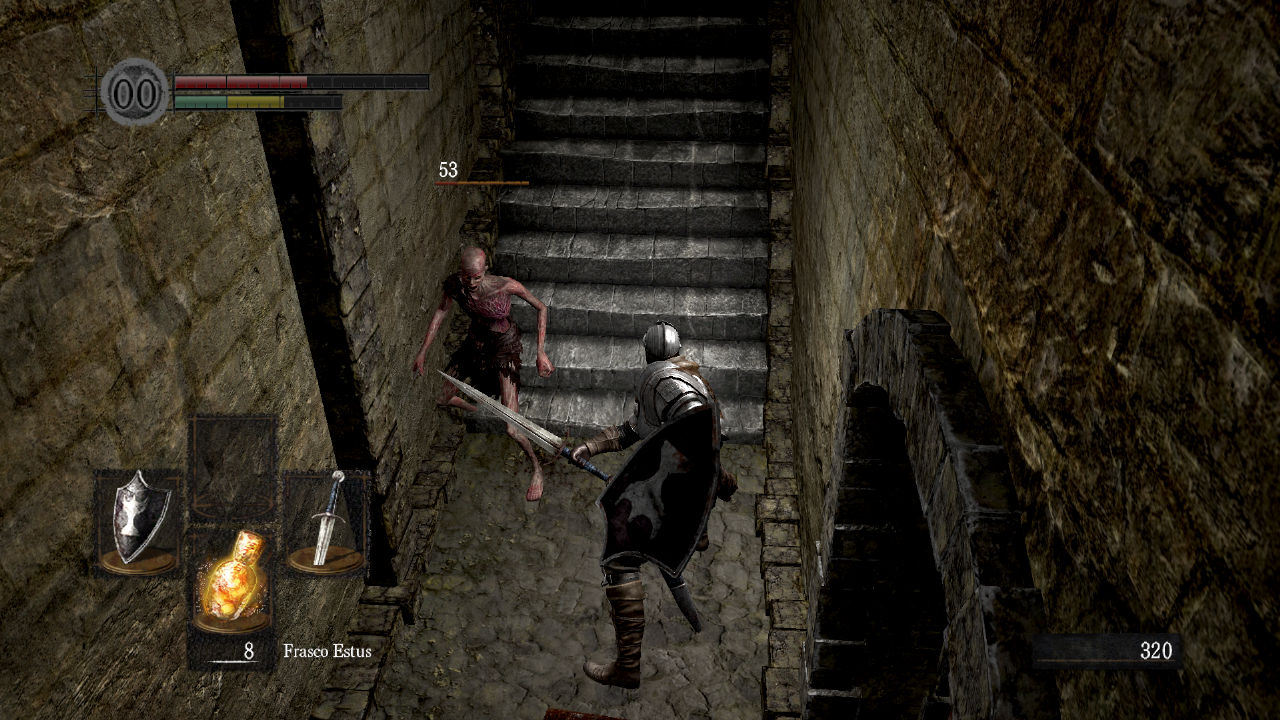hollow: (412, 246, 555, 502)
player: (437, 320, 738, 690)
